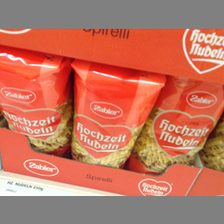pasta: (71, 59, 166, 168), (130, 74, 224, 173), (1, 46, 70, 156)
